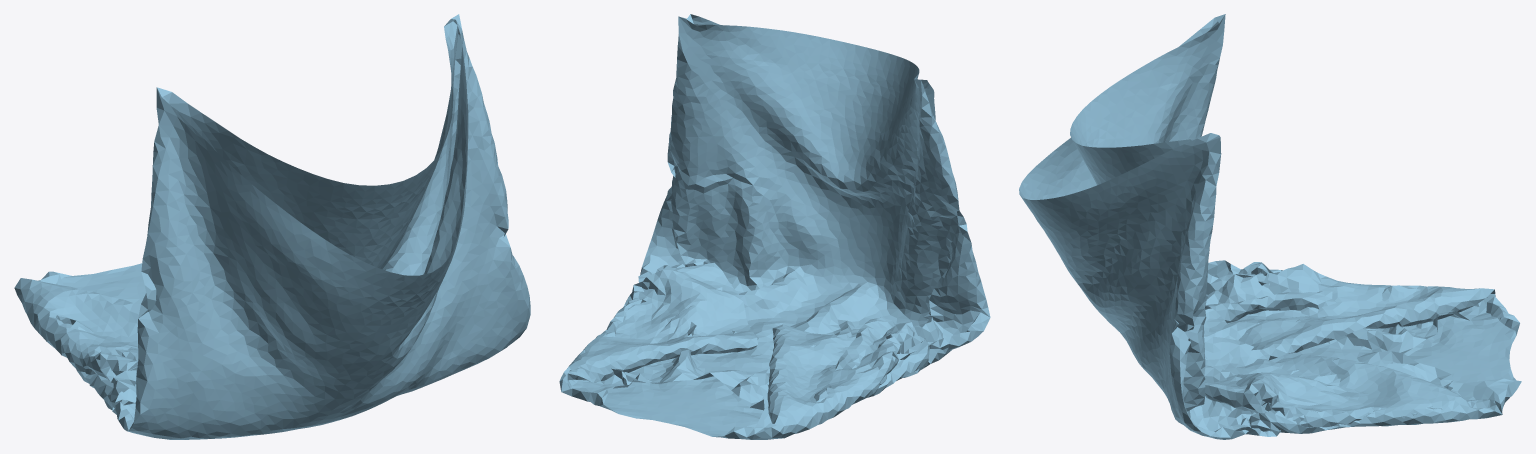
The model's file is frame_11.glb.
3 views of the same model, side by side, from view 1: azimuth 30°, elevation 25°; view 2: azimuth 150°, elevation 25°; view 3: azimuth 270°, elevation 25° (orthographic). The views are drawn at different scales.
Visible parts, largest first — view 1: frame_11.obj; view 2: frame_11.obj; view 3: frame_11.obj.
Boxes of the visible parts, bbox=[...] form: frame_11.obj: bbox=[14, 14, 530, 439]; frame_11.obj: bbox=[559, 14, 990, 439]; frame_11.obj: bbox=[1019, 14, 1521, 439].
Bounding box in the file's own units: 1.1 × 0.8879 × 1.37.
